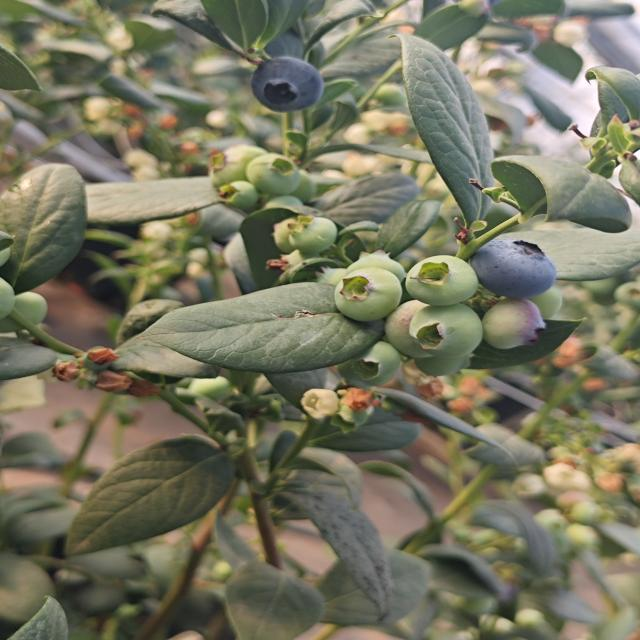ripe: (471, 234, 554, 296), (249, 55, 325, 113)
